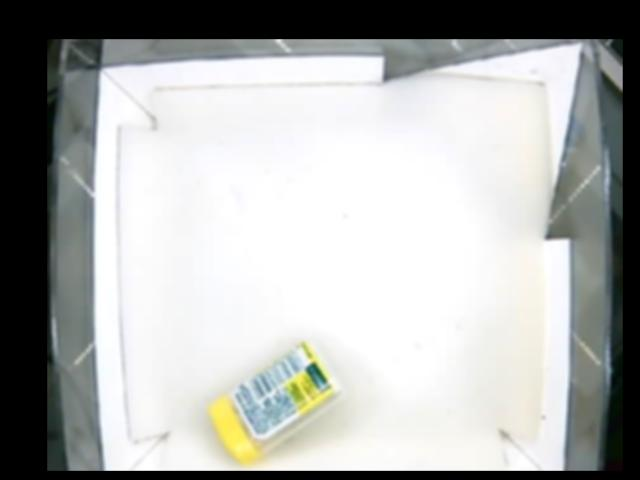Bottle: (209, 335, 344, 470)
